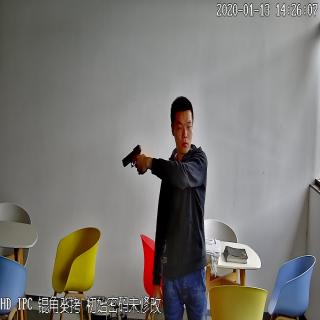gun: (120, 145, 143, 177)
